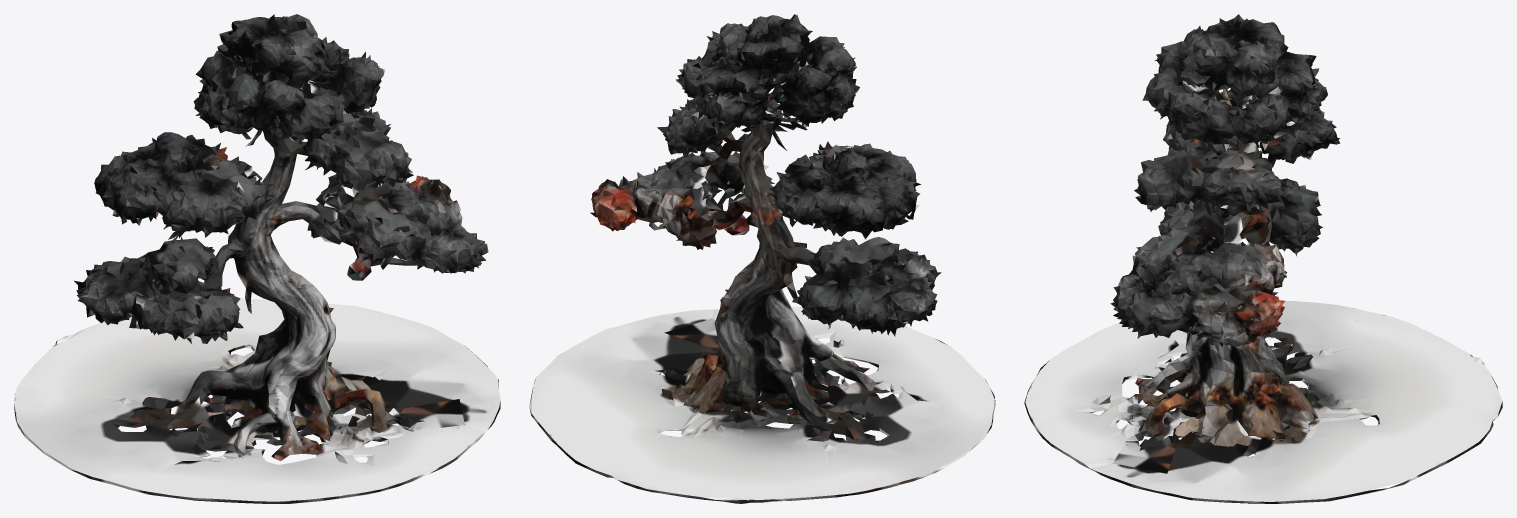
Rendered from traveler_env_coast_shadowlands_dead_cedar_00001_.glb.
3 views of the same model, side by side, from view 1: azimuth 30°, elevation 25°; view 2: azimuth 150°, elevation 25°; view 3: azimuth 270°, elevation 25° (orthographic). The views are drawn at different scales.
Parts seen in each view (by area): view 1: temp_mesh.ply; view 2: temp_mesh.ply; view 3: temp_mesh.ply.
Boxes of the visible parts, x1=… form: temp_mesh.ply: x1=14, y1=14, x2=500, y2=503; temp_mesh.ply: x1=529, y1=14, x2=995, y2=503; temp_mesh.ply: x1=1024, y1=14, x2=1502, y2=503.
Size of the model in its own units: 1.97 by 1.73 by 1.97.
1 material, 1 textured.
